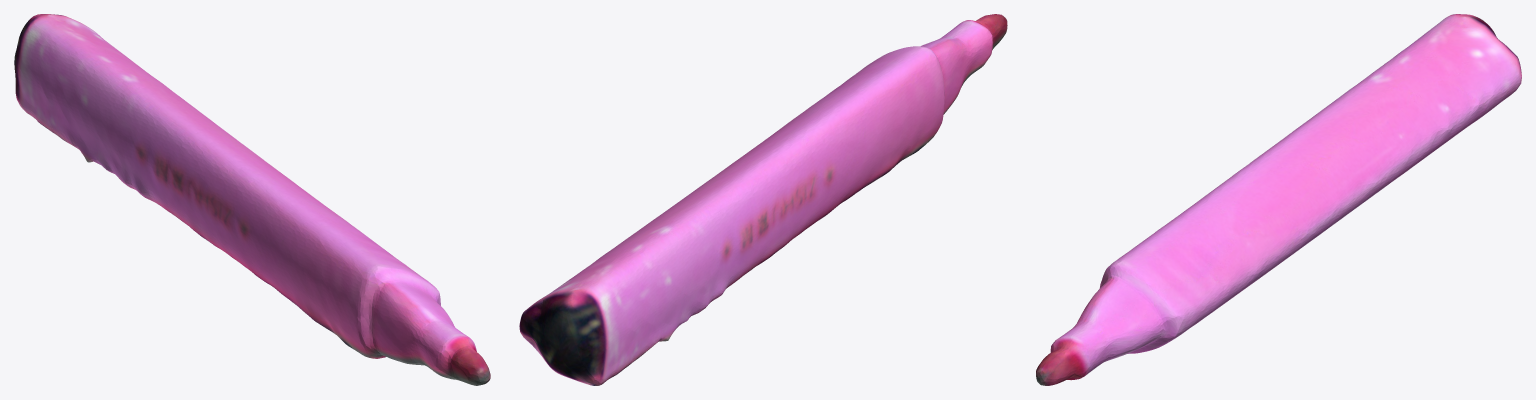
File: scan_align.obj
The picture shows the model from 3 angles, left to right: view 1: azimuth 30°, elevation 25°; view 2: azimuth 150°, elevation 25°; view 3: azimuth 330°, elevation 25°; orthographic projection.
Size of the model in its own units: 0.0132 by 0.0135 by 0.1171.
1 material, 1 textured.
